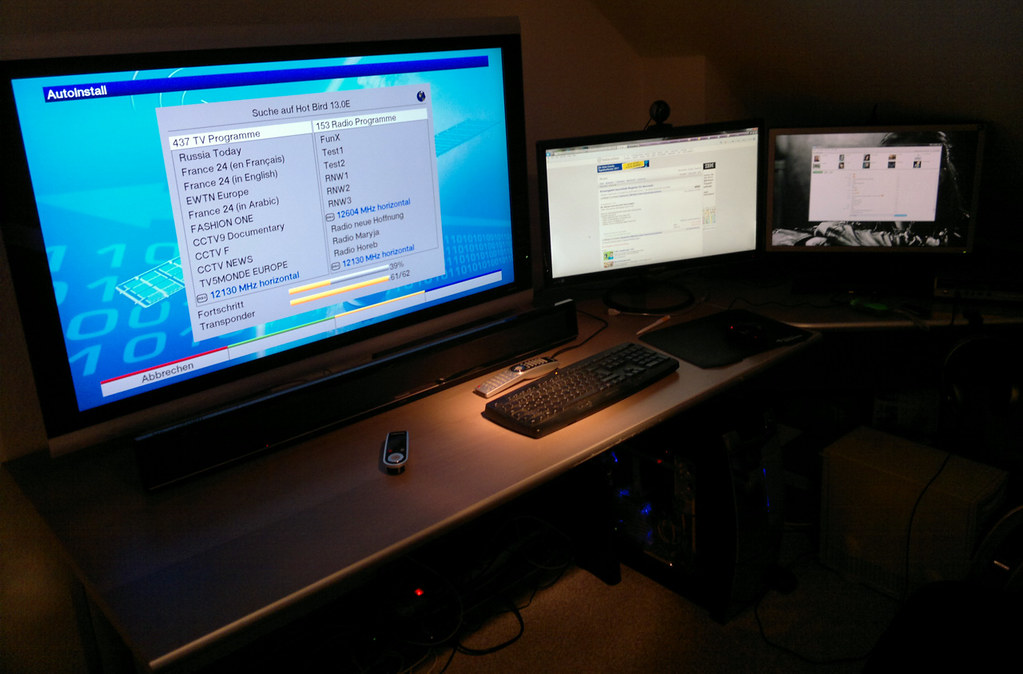tv monitor: (6, 52, 550, 489), (539, 132, 774, 288)
